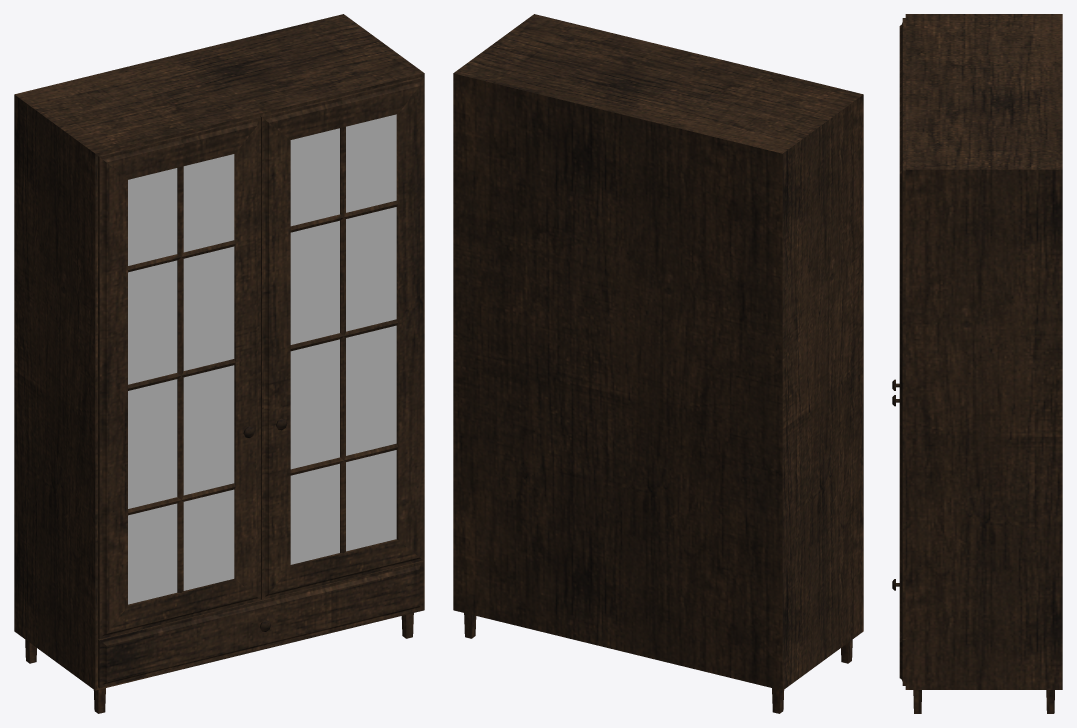
The model's file is wardrobe_mp_2_1.obj.
The picture shows the model from 3 angles, left to right: view 1: azimuth 30°, elevation 25°; view 2: azimuth 150°, elevation 25°; view 3: azimuth 270°, elevation 25°; orthographic projection. The views are drawn at different scales.
Parts seen in each view (by area): view 1: wardrobe_mp_2_1_door_1, wardrobe_mp_2_1_door_2, wardrobe_mp_2_1, wardrobe_mp_2_1_drawer; view 2: wardrobe_mp_2_1; view 3: wardrobe_mp_2_1, wardrobe_mp_2_1_door_2, wardrobe_mp_2_1_door_1, wardrobe_mp_2_1_drawer.
Part boxes in pixels (x1,y1,x2,y2): wardrobe_mp_2_1_door_1: [98, 116, 260, 639]; wardrobe_mp_2_1_door_2: [260, 77, 423, 599]; wardrobe_mp_2_1: [14, 14, 424, 713]; wardrobe_mp_2_1_drawer: [98, 561, 423, 688]; wardrobe_mp_2_1: [453, 14, 863, 713]; wardrobe_mp_2_1: [905, 14, 1062, 713]; wardrobe_mp_2_1_door_2: [892, 95, 905, 638]; wardrobe_mp_2_1_door_1: [892, 18, 905, 390]; wardrobe_mp_2_1_drawer: [892, 579, 905, 685].
Size of the model in its own units: 1.22 by 2 by 0.5645.
